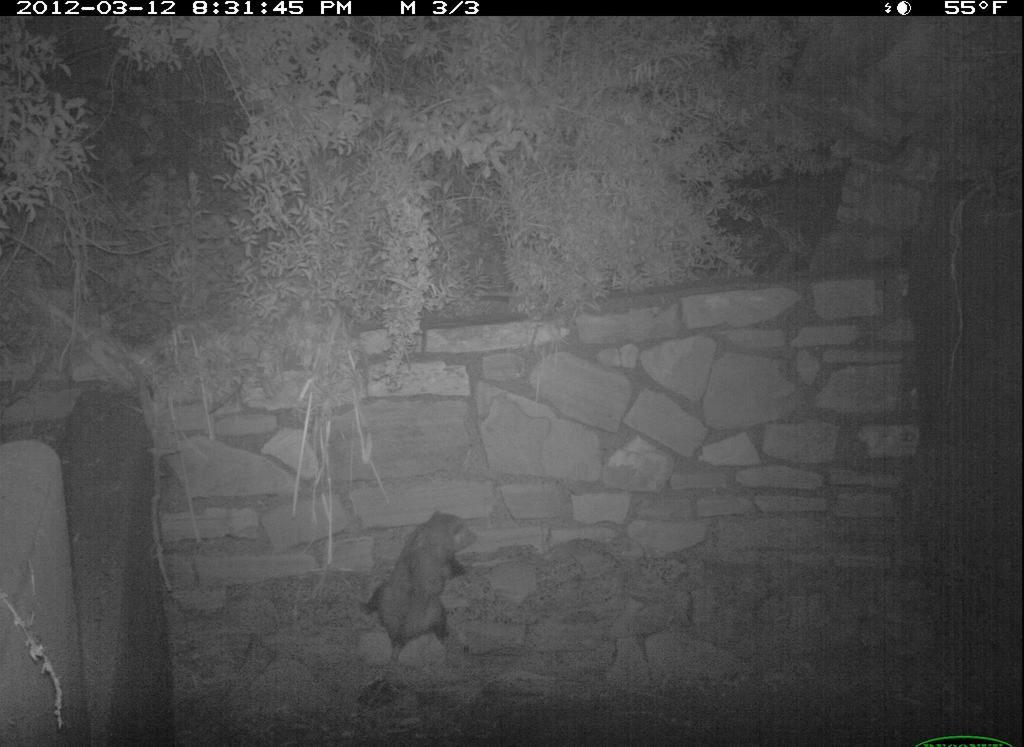opossum: (343, 504, 495, 673)
